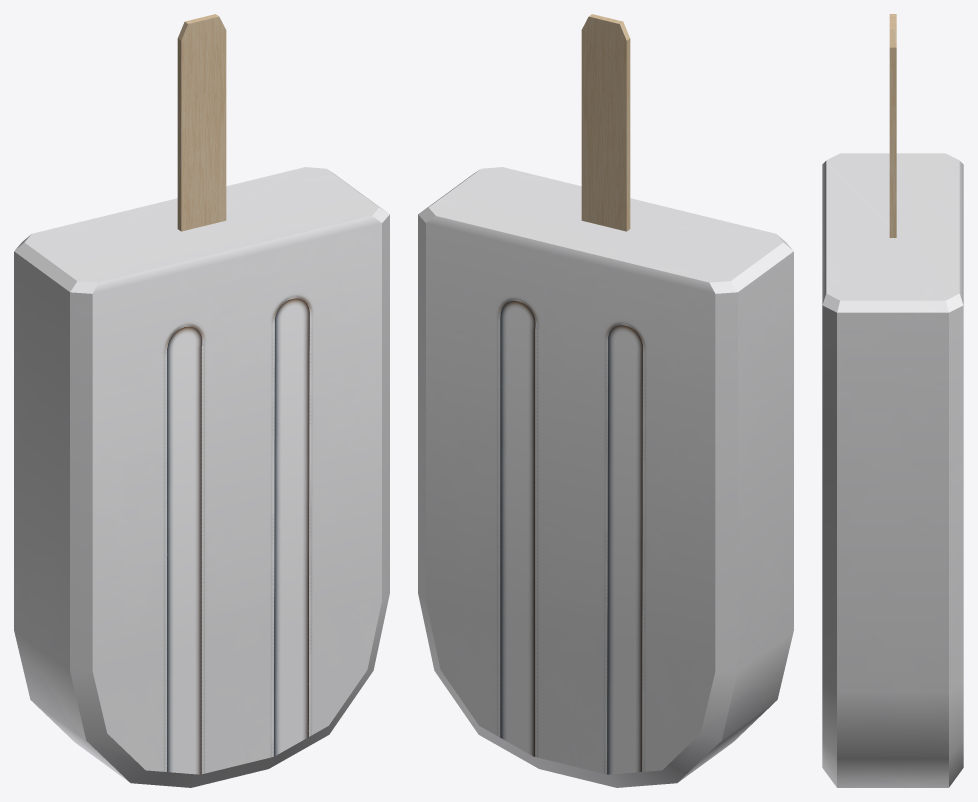
Rendered from popsicle1.fbx.
The picture shows the model from 3 angles, left to right: view 1: azimuth 30°, elevation 25°; view 2: azimuth 150°, elevation 25°; view 3: azimuth 270°, elevation 25°; orthographic projection.
Parts seen in each view (by area): view 1: popsicle1; view 2: popsicle1; view 3: popsicle1.
Boxes of the visible parts, left/top/right/bottom form: popsicle1: left=14, top=14, right=389, bottom=787; popsicle1: left=418, top=14, right=793, bottom=787; popsicle1: left=822, top=14, right=963, bottom=787.
Size of the model in its own units: 0.2715 by 0.5998 by 0.104.
